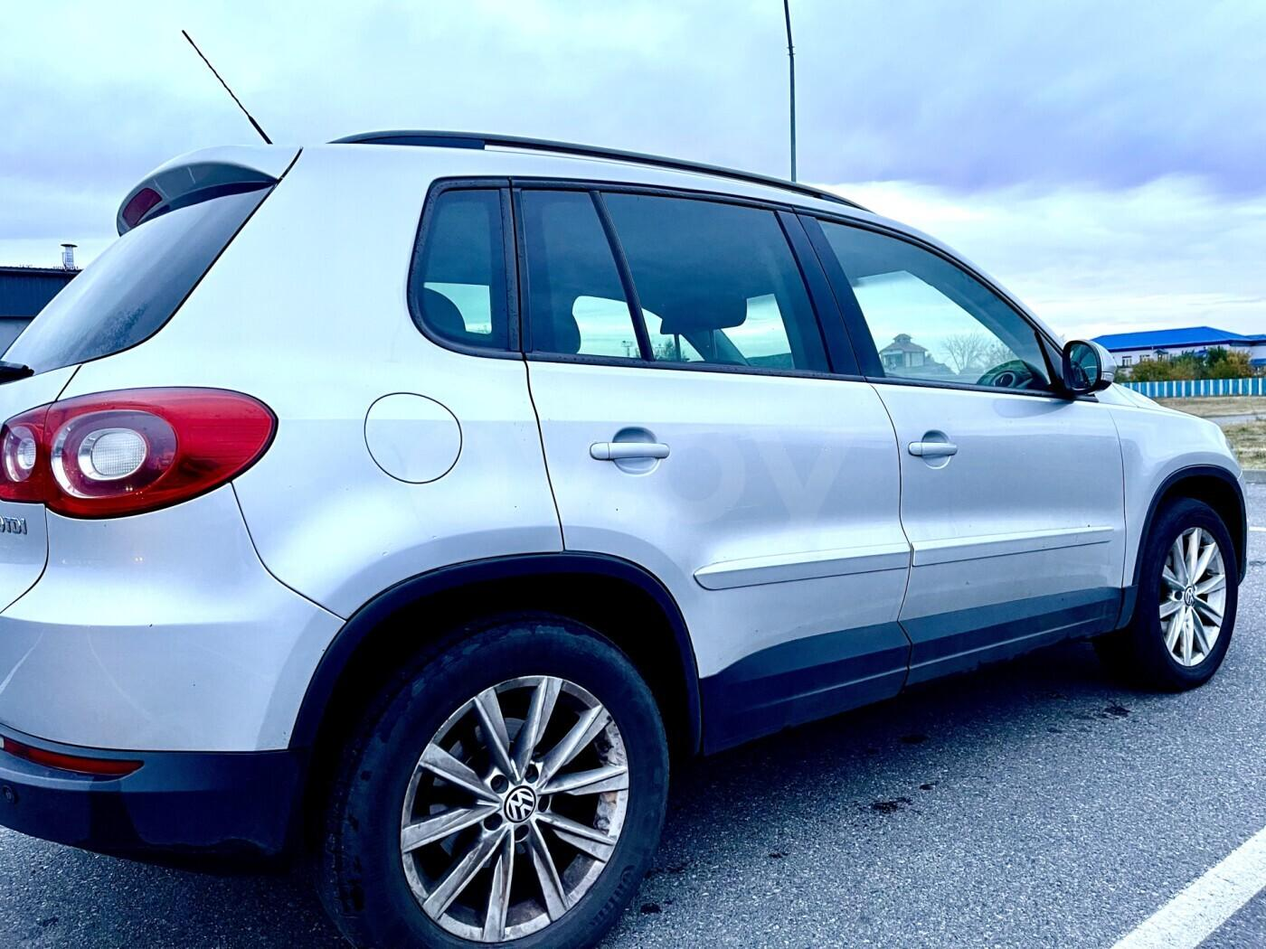Tiguan_2007-2011: (0, 122, 1252, 949)
